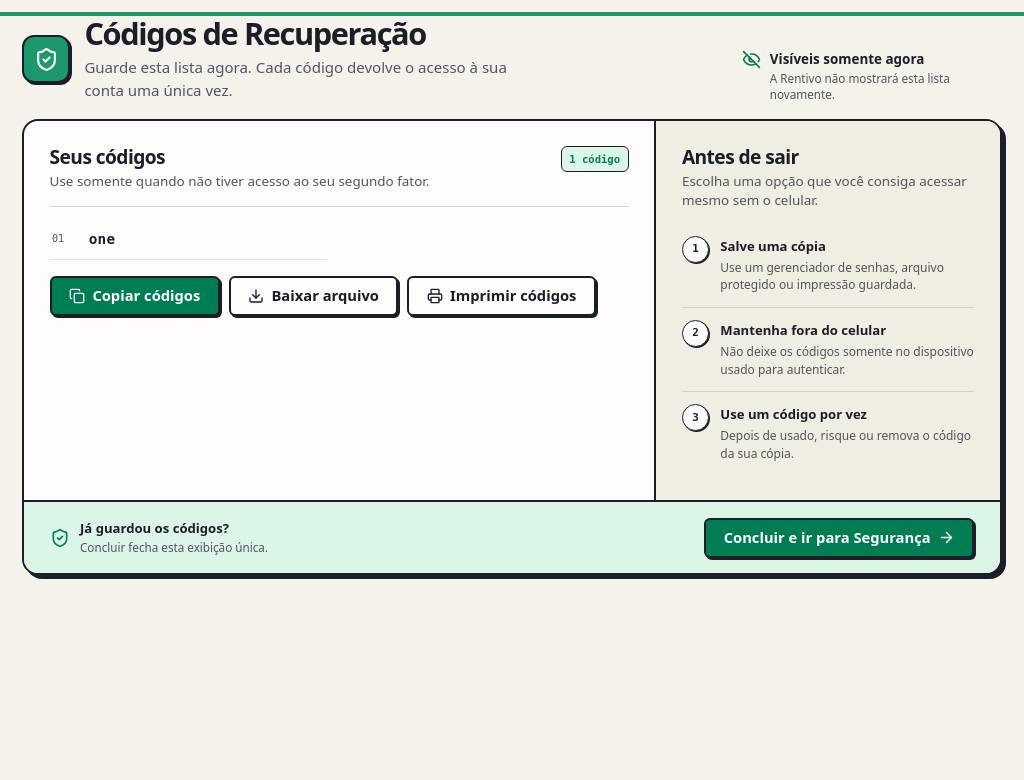
Test: keeps the codes available when the download cannot start
Click the button "Baixar arquivo". click: (314, 296)
box: [229,276,398,316]
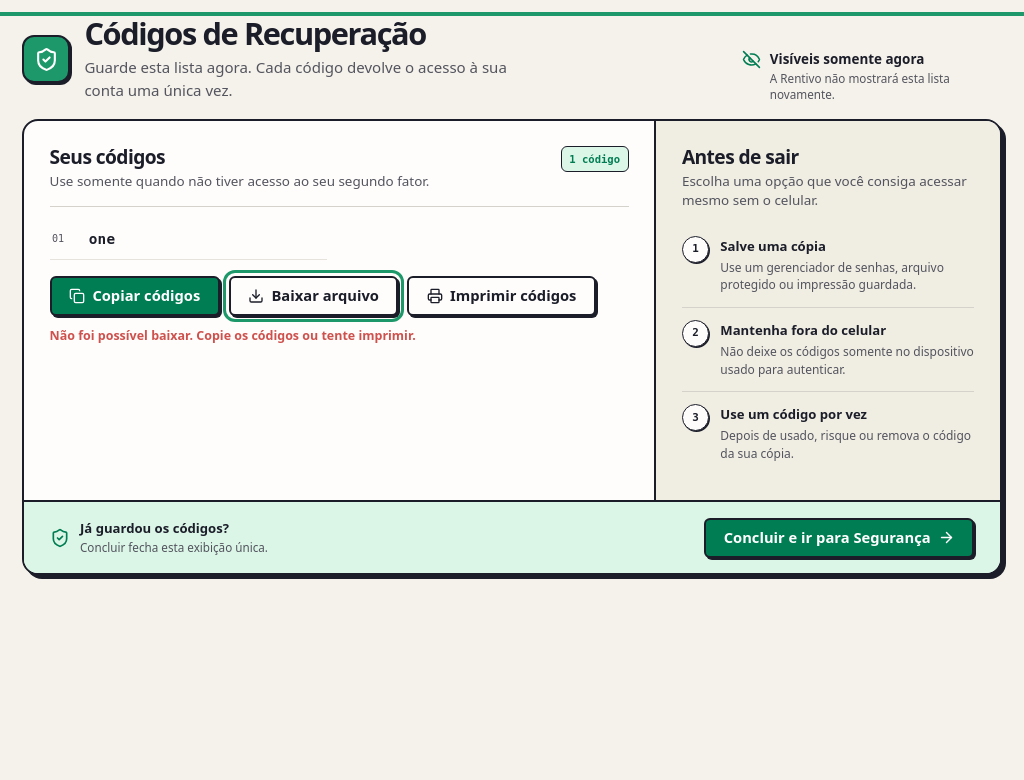
Expected: the text "one" is shown, [89,231,115,247]
Result: the message reads "Não foi possível baixar. Copie os códigos ou tente imprimir." at [50,327,416,344]
